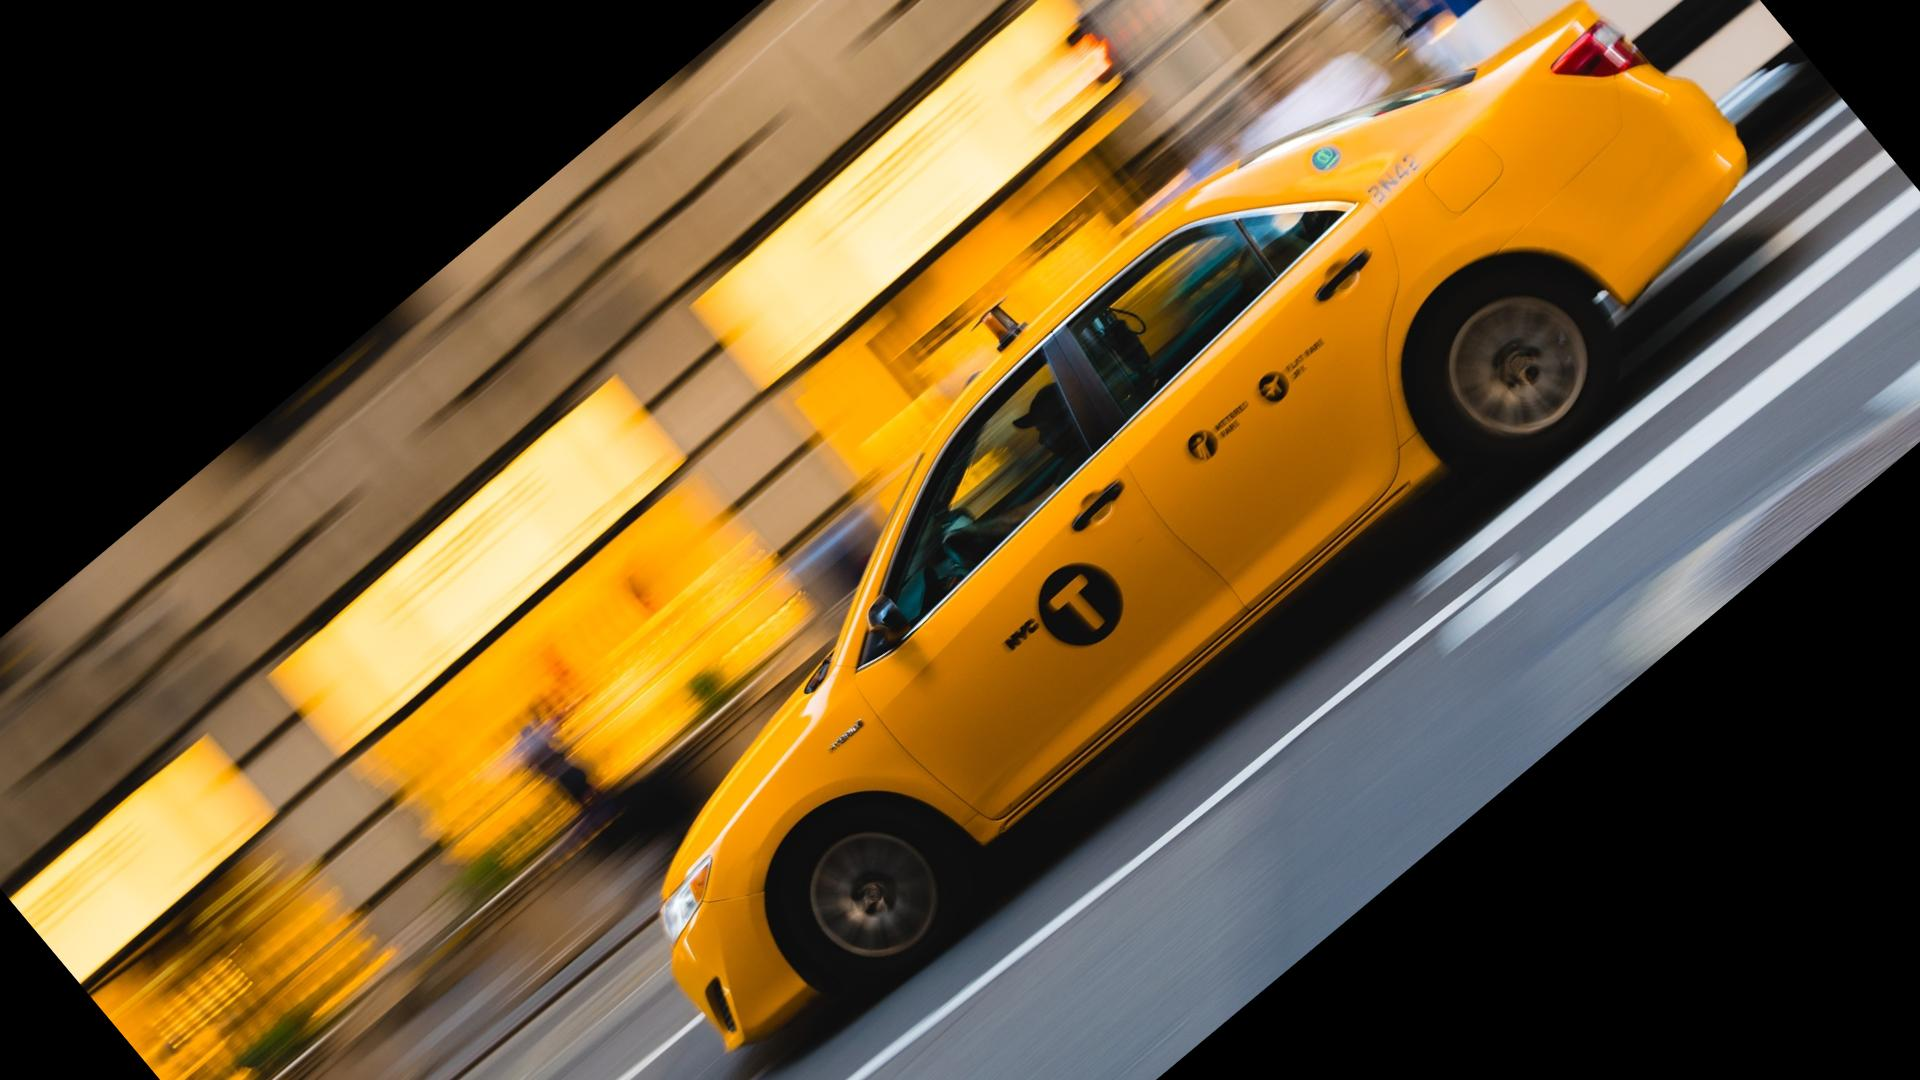taxi: (644, 1, 1700, 1059)
